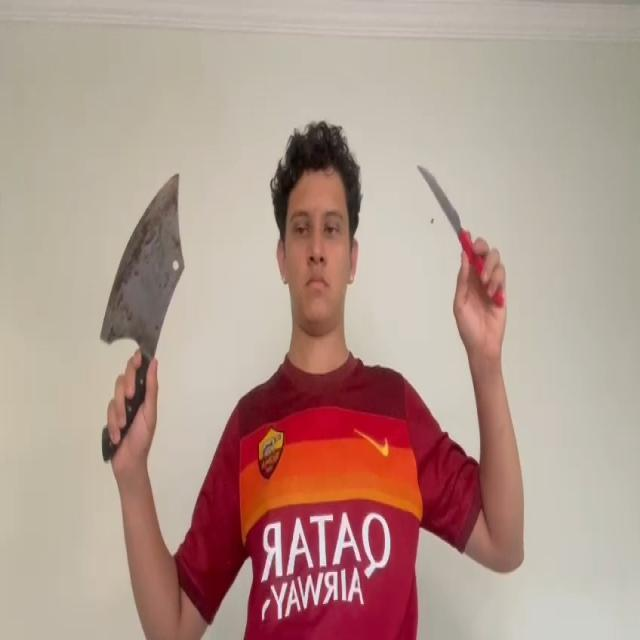knife: (100, 172, 188, 348), (416, 164, 462, 234)
